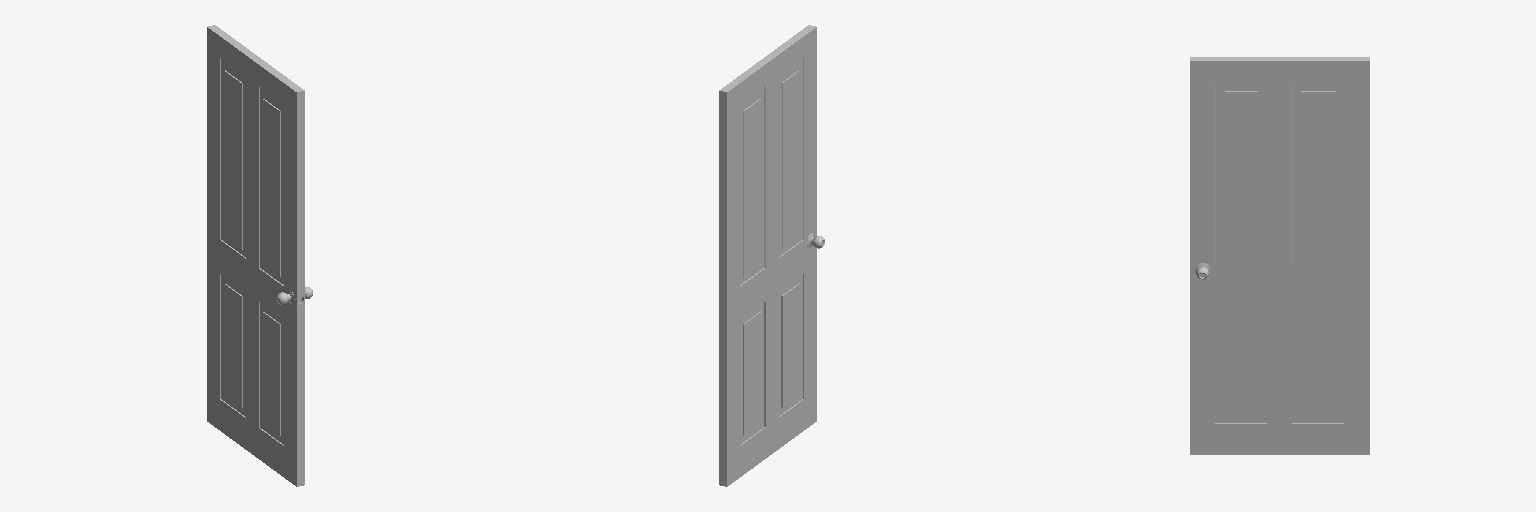
The model's file is door.obj.
3 renders of one model, left to right at view 1: azimuth 30°, elevation 25°; view 2: azimuth 150°, elevation 25°; view 3: azimuth 270°, elevation 25°, orthographic.
Parts seen in each view (by area): view 1: Object_M_5936.jpg, Object_M_5936b.jpg; view 2: Object_M_5936.jpg, Object_M_5936b.jpg; view 3: Object_M_5936.jpg, Object_M_5936b.jpg.
Boxes of the visible parts, x1,y1,x2,y2 form: Object_M_5936.jpg: [207, 28, 304, 486]; Object_M_5936b.jpg: [207, 25, 304, 486]; Object_M_5936.jpg: [719, 28, 816, 486]; Object_M_5936b.jpg: [719, 25, 816, 486]; Object_M_5936.jpg: [1190, 61, 1369, 454]; Object_M_5936b.jpg: [1190, 57, 1369, 454].
Size of the model in its own units: 0.2209 by 2.5 by 1.03.